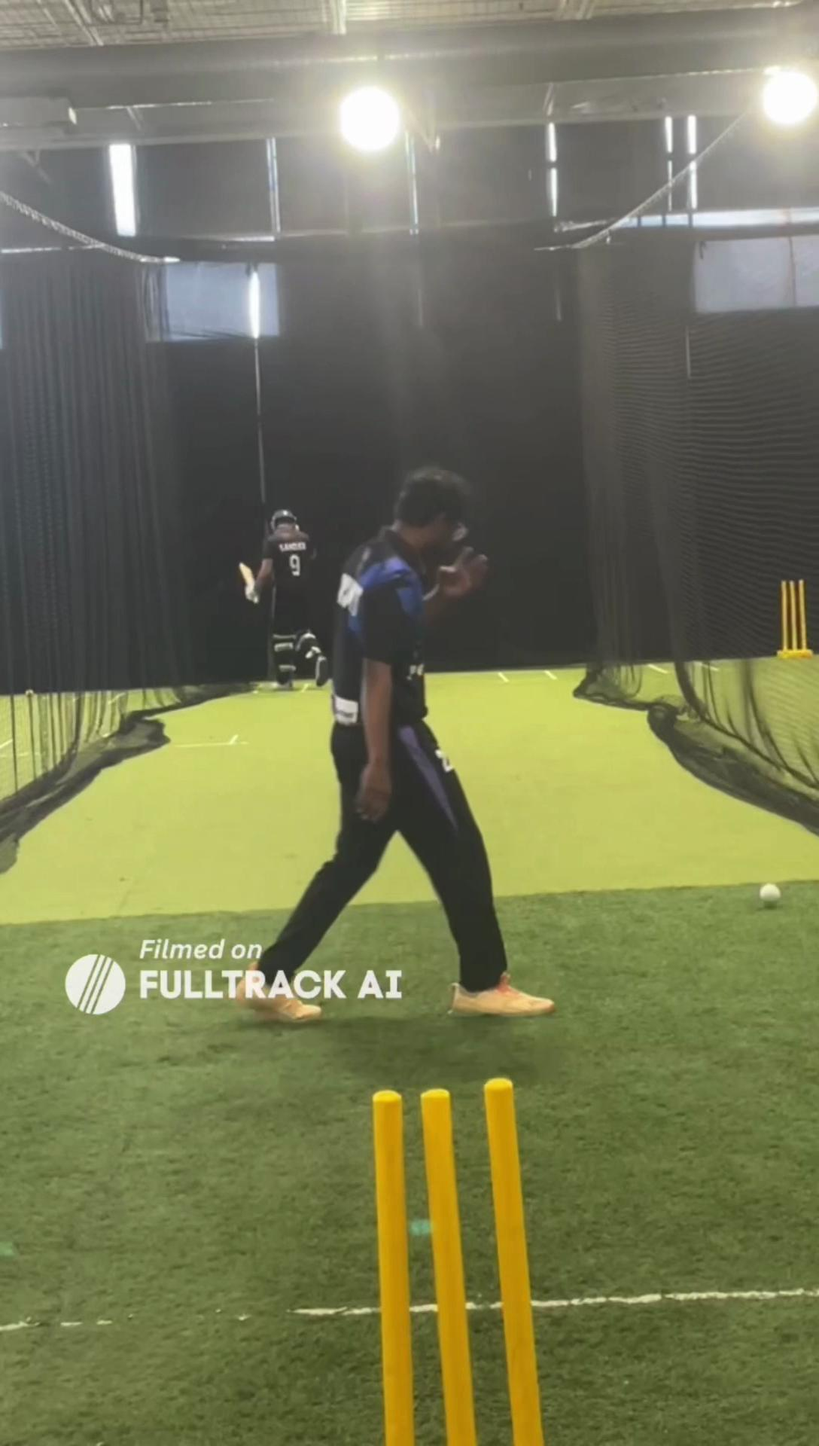ball: (756, 880, 787, 912)
